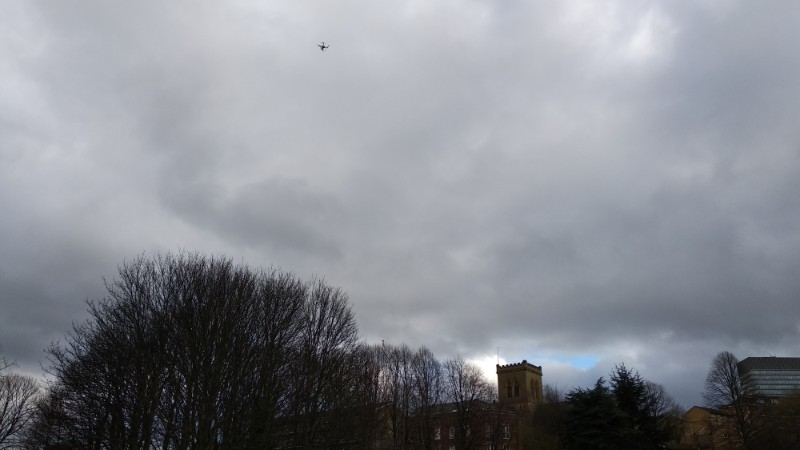drone: (319, 41, 328, 53)
